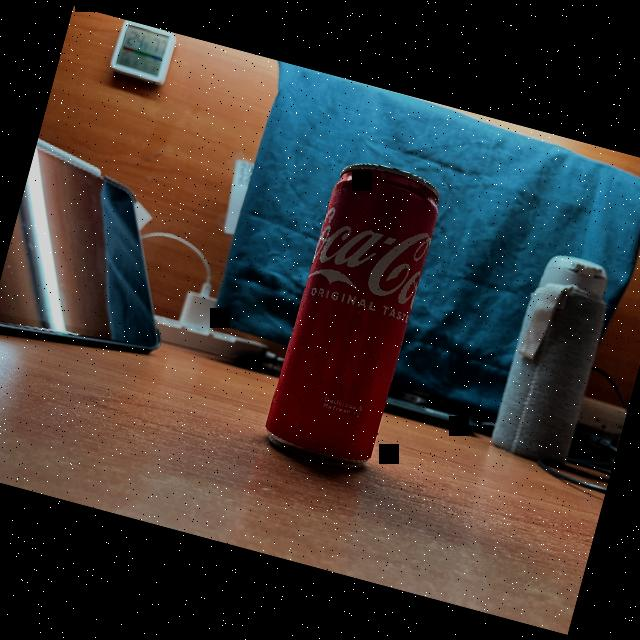can: (255, 146, 454, 484)
